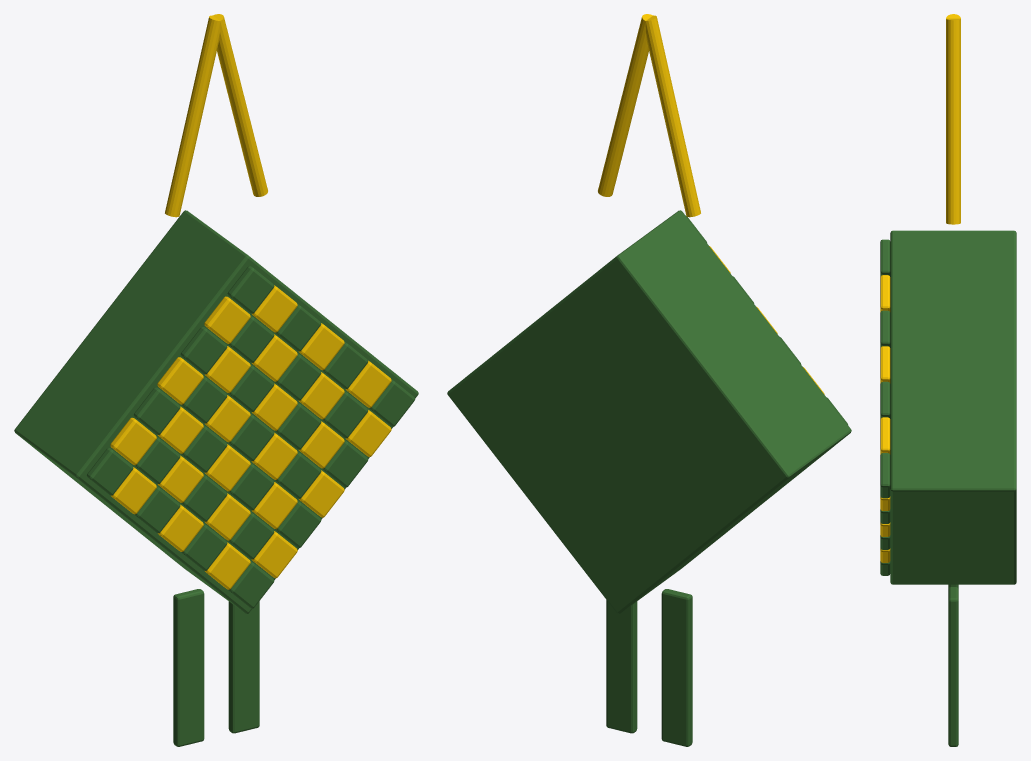
File: hari-raya-ketupat-decoration.glb
3 renders of one model, left to right at view 1: azimuth 30°, elevation 25°; view 2: azimuth 150°, elevation 25°; view 3: azimuth 270°, elevation 25°, orthographic.
Visible parts, largest first — view 1: Woven_Core, Palm_Tail, Palm_Tail.001, Hanging_Loop_Left, Hanging_Loop_Right, Palm_Weave_0_1, Palm_Weave_0_6, Palm_Weave_0_3, Palm_Weave_0_5, Palm_Weave_0_0, Palm_Weave_0_2, Palm_Weave_0_4 (+42 smaller); view 2: Woven_Core, Palm_Tail, Palm_Tail.001, Hanging_Loop_Left, Hanging_Loop_Right; view 3: Woven_Core, Hanging_Loop_Right, Palm_Tail.001, Palm_Weave_6_6, Palm_Weave_2_6, Palm_Weave_4_6, Palm_Weave_0_6, Palm_Weave_3_6, Palm_Weave_1_6, Palm_Weave_5_6.
Boxes of the visible parts, x1,y1,x2,y2 form: Woven_Core: [14, 210, 418, 613]; Palm_Tail: [173, 589, 204, 746]; Palm_Tail.001: [228, 601, 259, 733]; Hanging_Loop_Left: [165, 15, 220, 217]; Hanging_Loop_Right: [213, 14, 267, 196]; Palm_Weave_0_1: [110, 417, 156, 465]; Palm_Weave_0_6: [227, 266, 274, 313]; Palm_Weave_0_3: [157, 357, 203, 404]; Palm_Weave_0_5: [204, 296, 250, 343]; Palm_Weave_0_0: [87, 448, 133, 495]; Palm_Weave_0_2: [134, 387, 180, 434]; Palm_Weave_0_4: [180, 326, 227, 374]; Woven_Core: [447, 210, 851, 613]; Palm_Tail: [661, 589, 692, 746]; Palm_Tail.001: [606, 600, 637, 733]; Hanging_Loop_Left: [645, 15, 700, 217]; Hanging_Loop_Right: [598, 14, 652, 196]; Woven_Core: [890, 230, 1016, 584]; Hanging_Loop_Right: [946, 18, 960, 224]; Palm_Tail.001: [948, 587, 958, 746]; Palm_Weave_6_6: [880, 453, 890, 498]; Palm_Weave_2_6: [880, 310, 890, 347]; Palm_Weave_4_6: [880, 381, 890, 418]; Palm_Weave_0_6: [880, 239, 890, 276]; Palm_Weave_3_6: [880, 346, 890, 383]; Palm_Weave_1_6: [880, 275, 890, 312]; Palm_Weave_5_6: [880, 417, 890, 454].
Size of the model in its own units: 0.3095 by 0.6215 by 0.108.
